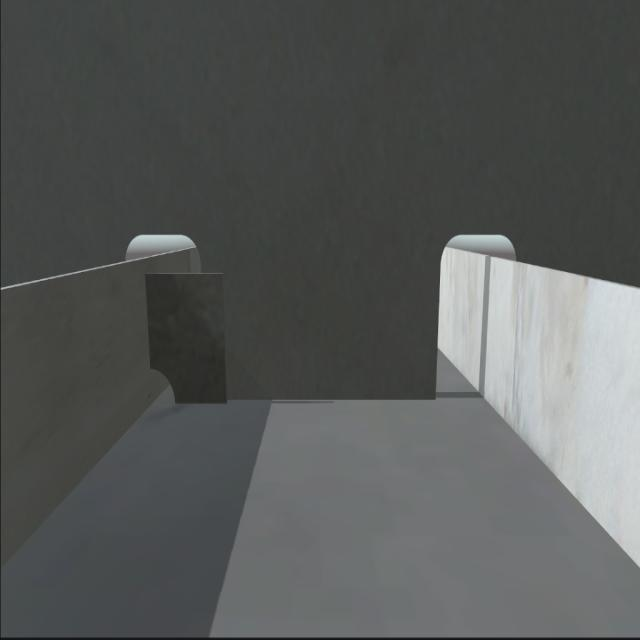fillet_hole: (152, 369, 175, 403)
fillet_yong_jeop_jang: (173, 393, 442, 406)
longi_yong_jeop_jang: (140, 271, 155, 374)
plate_CP01: (146, 276, 226, 401)
